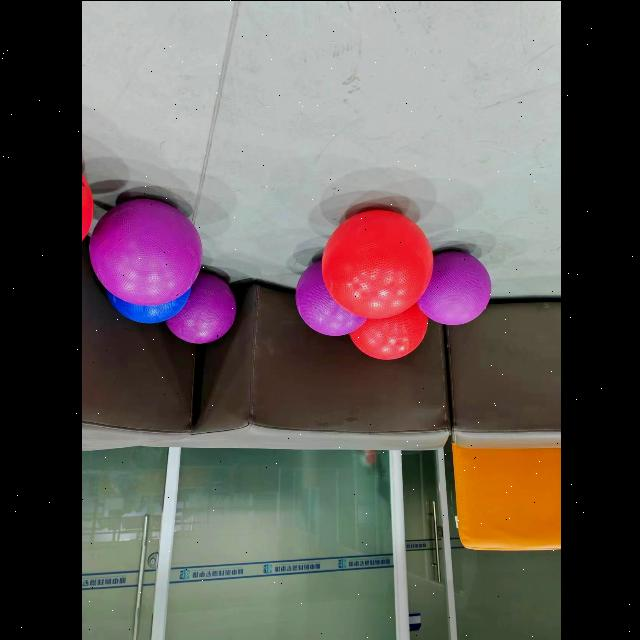P: (88, 198, 200, 305), (416, 251, 489, 324), (294, 260, 365, 334), (165, 271, 235, 343), (104, 288, 189, 323), (158, 272, 162, 274)
R: (320, 209, 431, 318), (348, 303, 426, 359), (80, 171, 91, 240)
